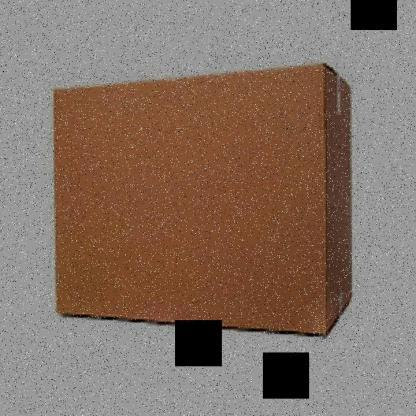-: (50, 59, 357, 344)
